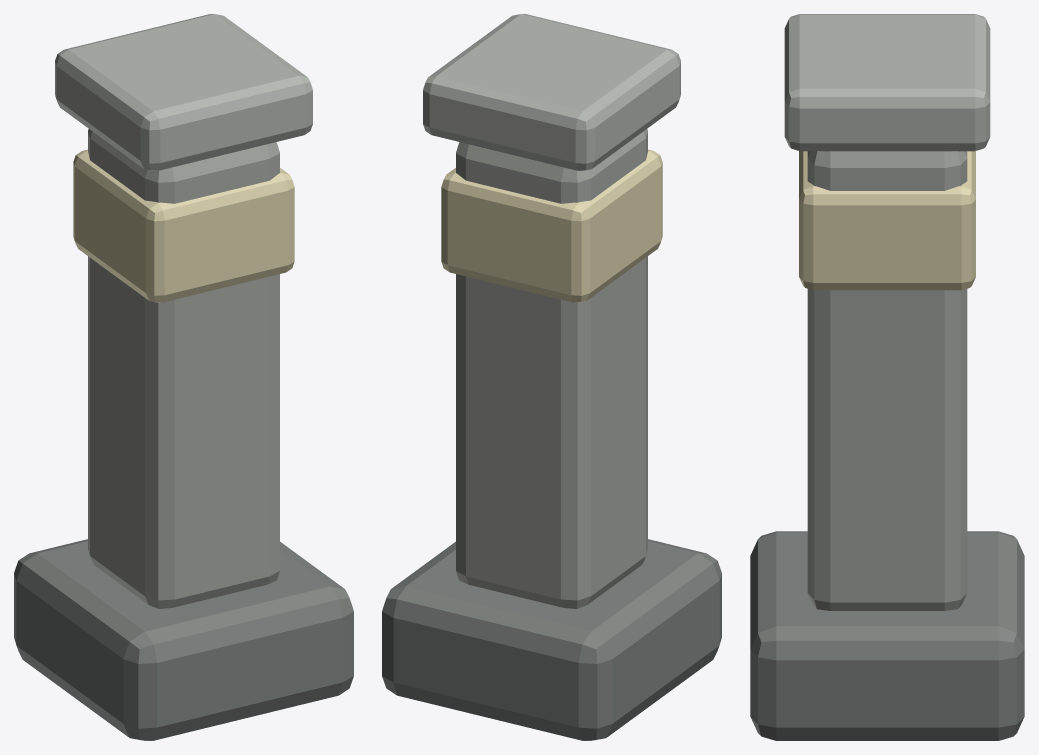
File: roadside_marker_0p4x1p2.glb
3 views of the same model, side by side, from view 1: azimuth 30°, elevation 25°; view 2: azimuth 150°, elevation 25°; view 3: azimuth 270°, elevation 25° (orthographic). The views are drawn at different scales.
Visible parts, largest first — view 1: roadside_marker_post, roadside_marker_base, roadside_marker_cap, roadside_marker_band; view 2: roadside_marker_post, roadside_marker_base, roadside_marker_cap, roadside_marker_band; view 3: roadside_marker_post, roadside_marker_base, roadside_marker_cap, roadside_marker_band.
Boxes of the visible parts, <box> form: roadside_marker_post: <box>88,129,279,608</box>; roadside_marker_base: <box>14,539,353,740</box>; roadside_marker_cap: <box>55,14,312,170</box>; roadside_marker_band: <box>73,149,294,302</box>; roadside_marker_post: <box>456,129,647,608</box>; roadside_marker_base: <box>382,539,721,740</box>; roadside_marker_cap: <box>423,14,680,170</box>; roadside_marker_band: <box>441,149,662,302</box>; roadside_marker_post: <box>807,151,967,610</box>; roadside_marker_base: <box>750,531,1024,740</box>; roadside_marker_cap: <box>784,14,990,151</box>; roadside_marker_band: <box>799,151,975,290</box>.
Bounding box in the file's own units: 0.48 × 1.24 × 0.48.
